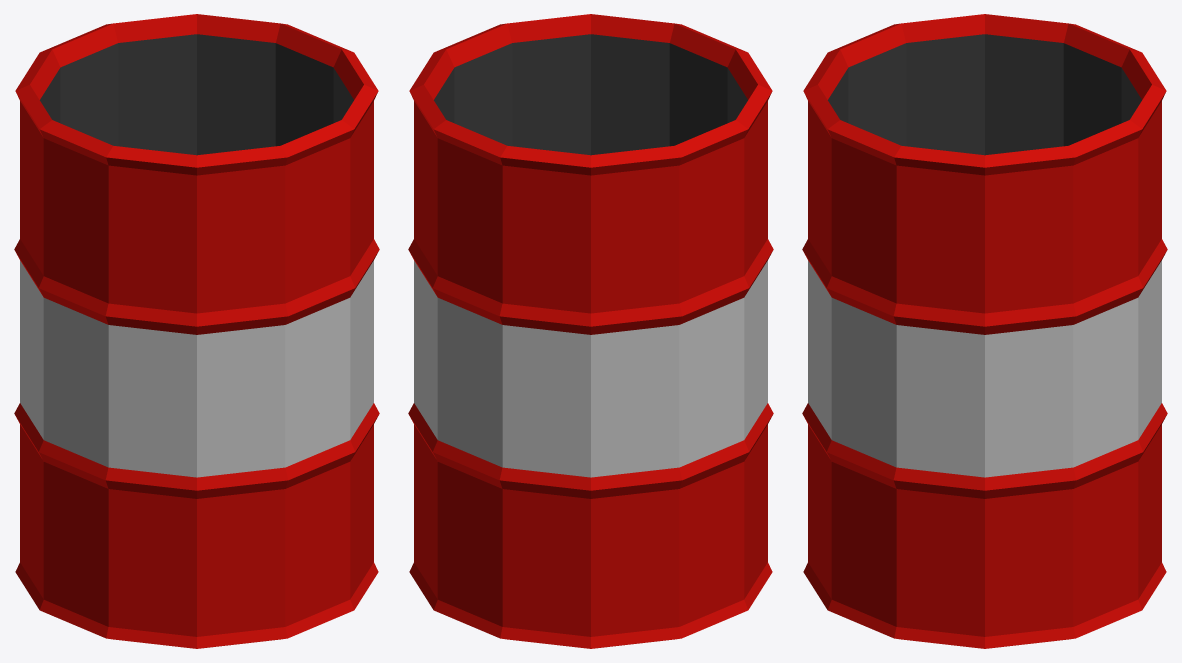
File: barrelEmpty01.fbx
3 renders of one model, left to right at view 1: azimuth 30°, elevation 25°; view 2: azimuth 150°, elevation 25°; view 3: azimuth 270°, elevation 25°, orthographic.
Parts seen in each view (by area): view 1: barrelEmpty01; view 2: barrelEmpty01; view 3: barrelEmpty01.
Boxes of the visible parts, <box> form: barrelEmpty01: <box>14,14,379,648</box>; barrelEmpty01: <box>408,14,773,648</box>; barrelEmpty01: <box>802,14,1167,648</box>.
Bounding box in the file's own units: 0.806 × 0.806 × 1.2.
